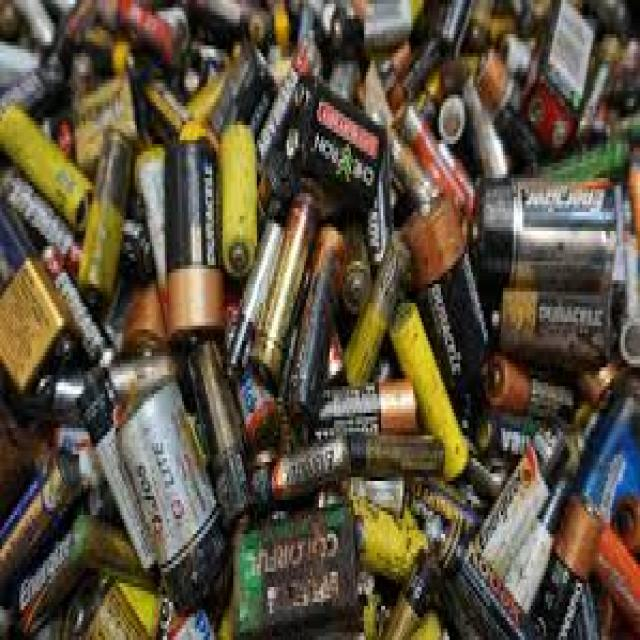non-organic waste: (119, 372, 236, 620), (448, 414, 570, 579), (471, 173, 620, 291), (0, 191, 80, 407), (402, 196, 491, 387), (235, 505, 358, 640), (284, 68, 388, 216), (162, 139, 226, 347), (251, 195, 316, 394), (288, 223, 348, 421), (533, 496, 608, 640), (492, 285, 614, 369), (79, 124, 136, 302), (309, 381, 422, 444), (222, 126, 256, 272)
